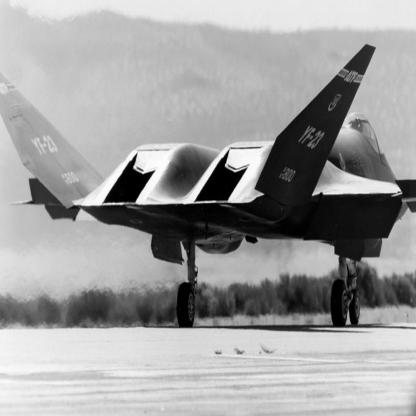YF23: (1, 44, 416, 329)
